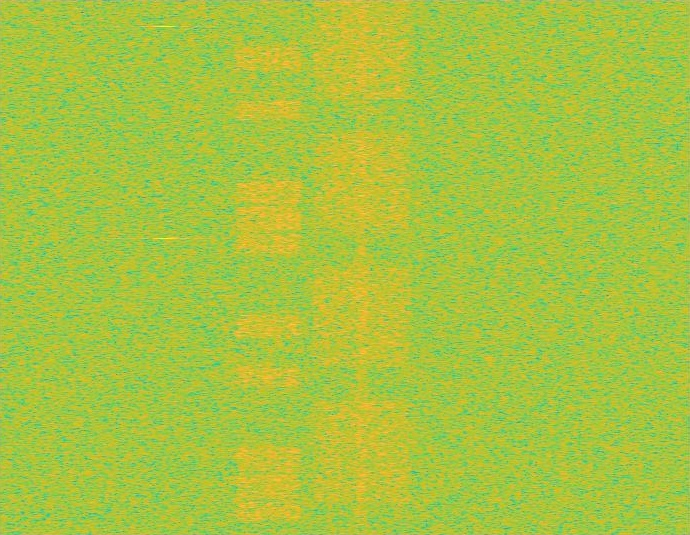5G: (310, 0, 414, 534)
DSSS: (355, 0, 369, 534)
LTE: (234, 0, 303, 534)
Radar: (158, 0, 172, 534)
